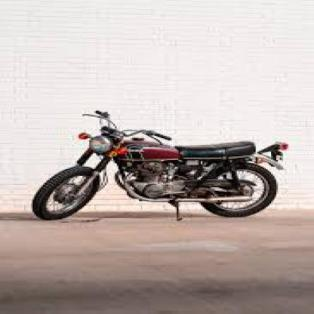Motocicleta: (31, 96, 295, 228)
